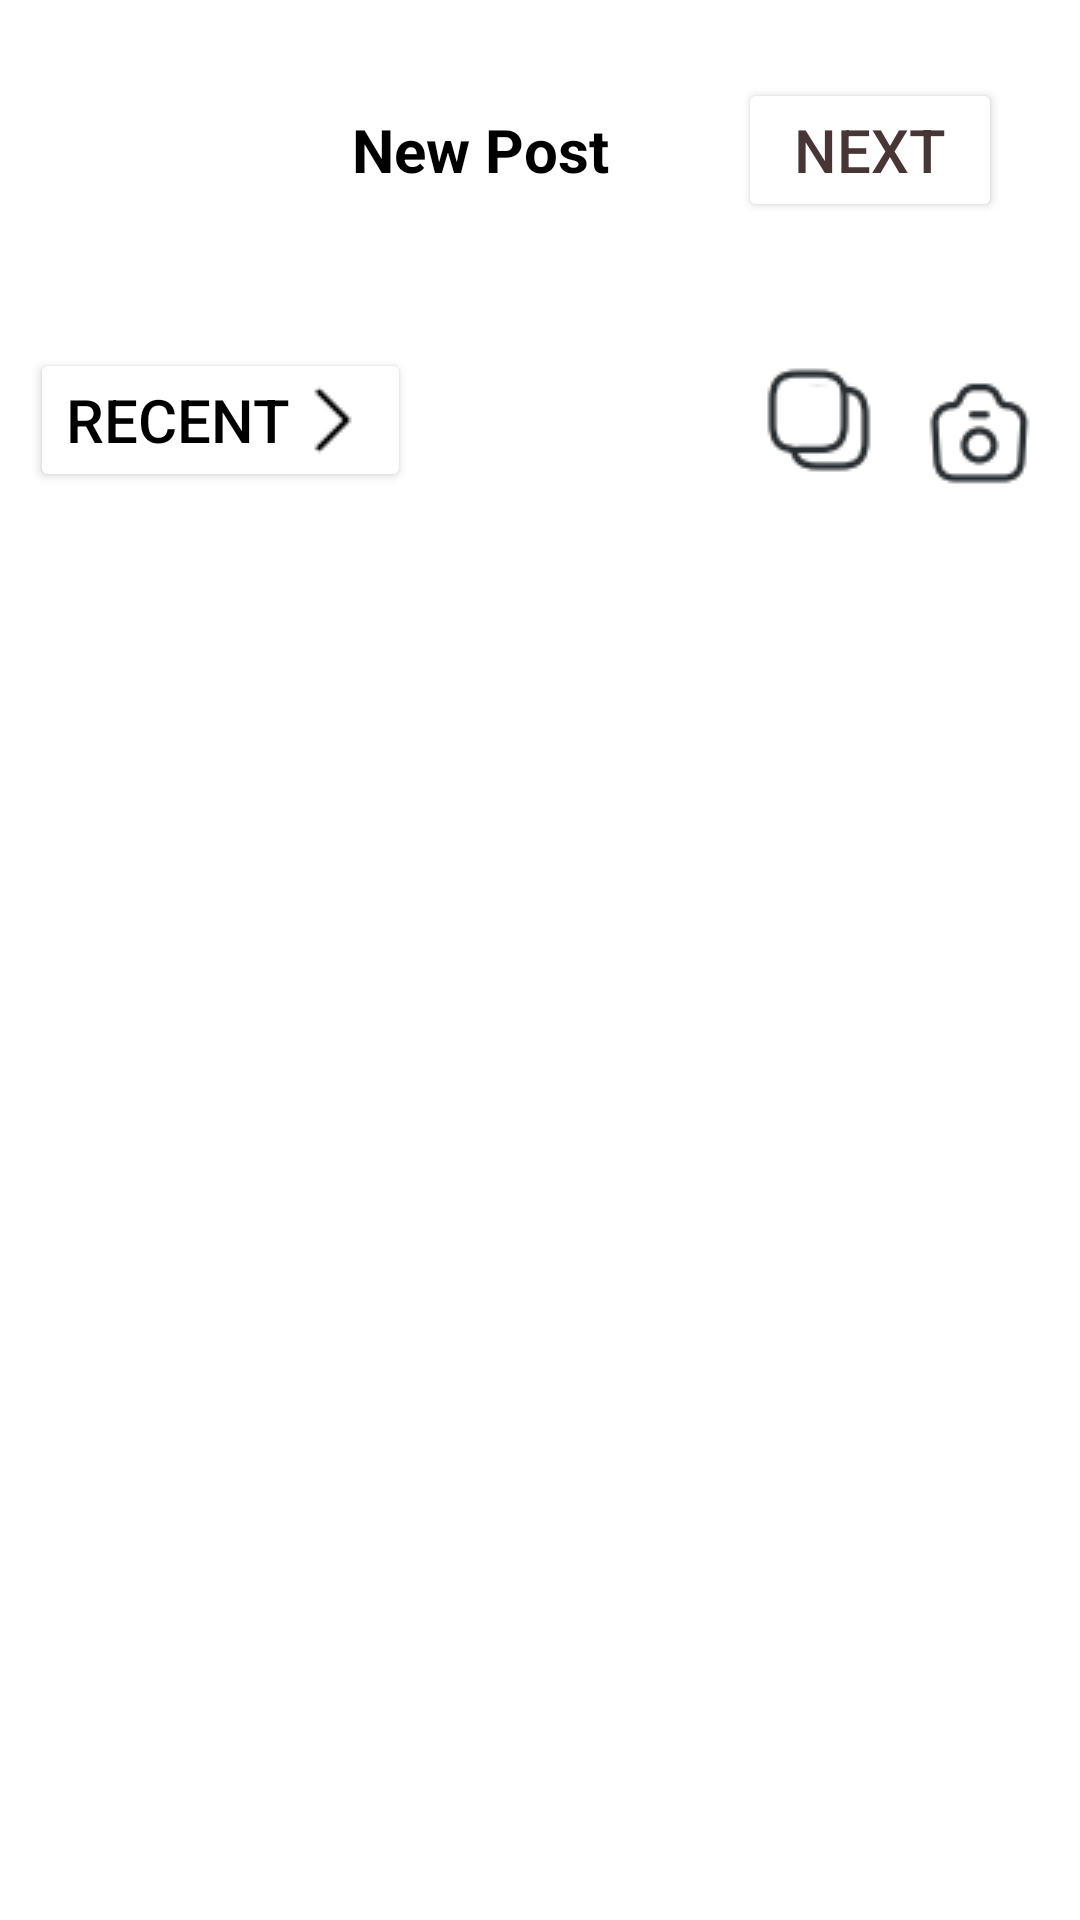

Screen size 1080 × 1920. Icon name, then its center in pixels as (x=x, y=y):
multi pics: (x=819, y=420)
take pic: (x=979, y=433)
